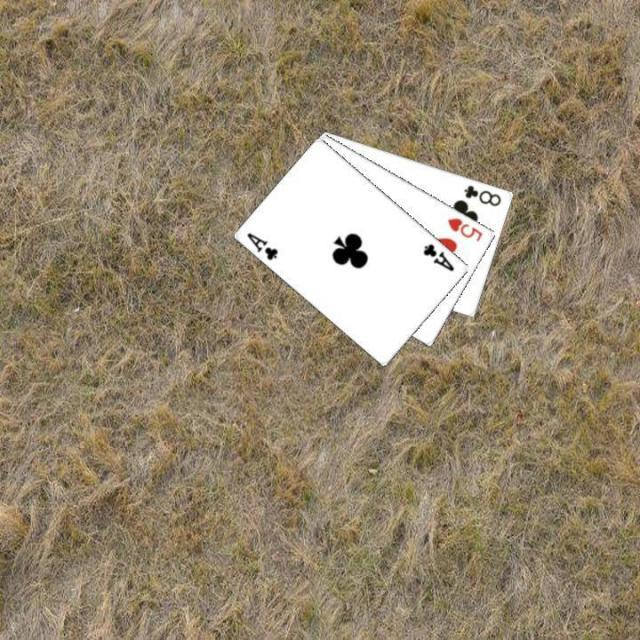5H: (444, 214, 484, 244)
8C: (461, 181, 504, 208)
AC: (419, 240, 456, 274), (243, 228, 280, 262)
